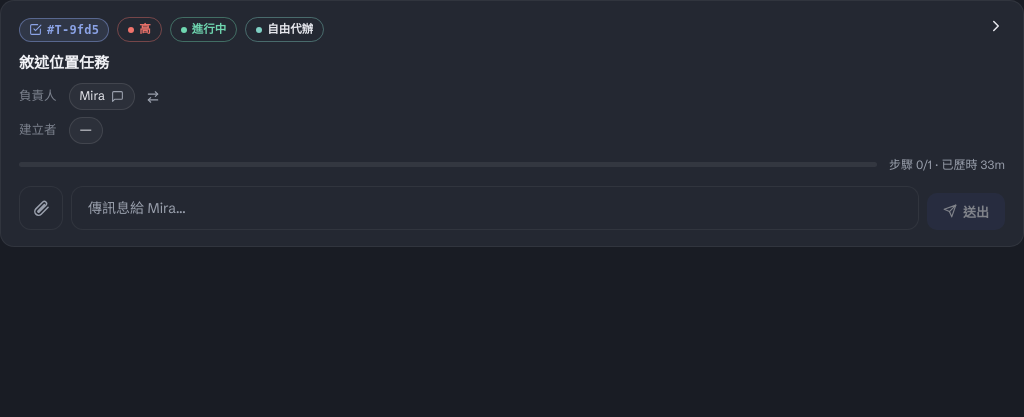
Test case: spec ③ 詳細敘述排在訊息輸入框之後 › renders the description AFTER the composer and BEFORE the workflow
Click the button with test id "task-card" at x=512, y=232, box [0,0,1023,247]
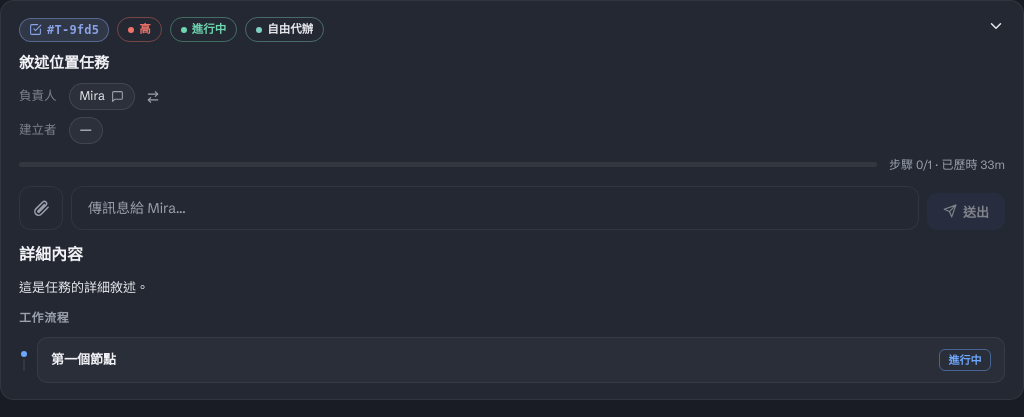
Check: the element with class "task-card__composer" is shown, box [19,186,1005,230]
Check: the element with class "task-card__desc" is shown, box [19,244,149,295]
Check: the element with class "task-card__workflow" is shown, box [19,309,1005,383]
